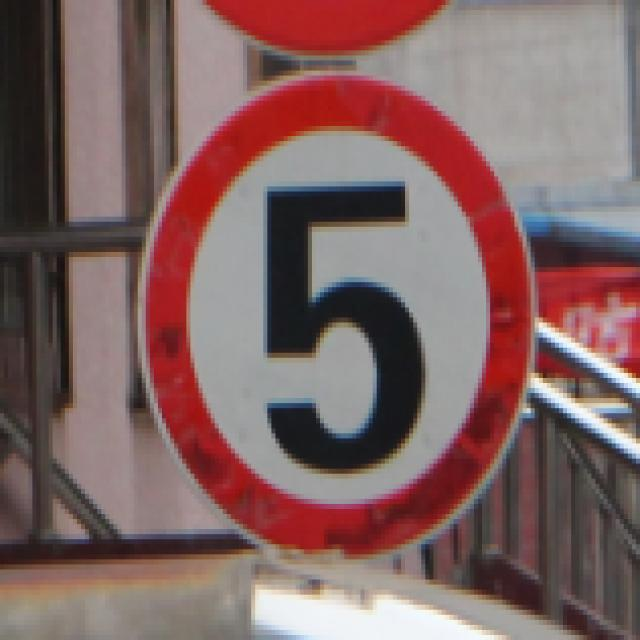Speed: (125, 59, 562, 567)
